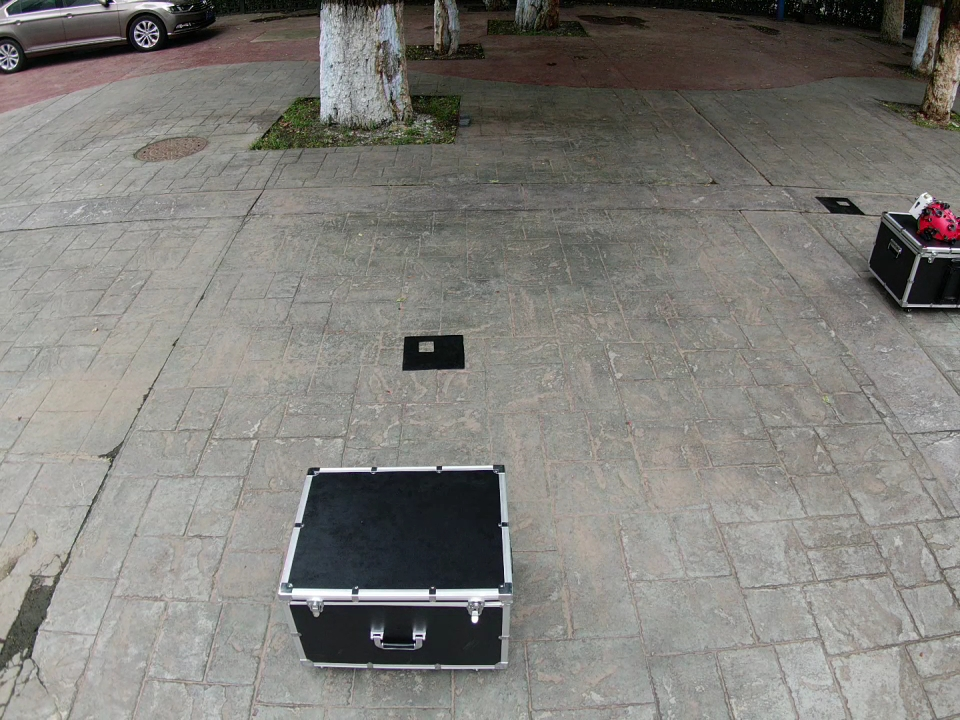box: (279, 465, 513, 669), (868, 211, 960, 311)
helmet: (919, 203, 959, 241)
qrcode: (402, 335, 464, 370), (816, 197, 865, 215)
